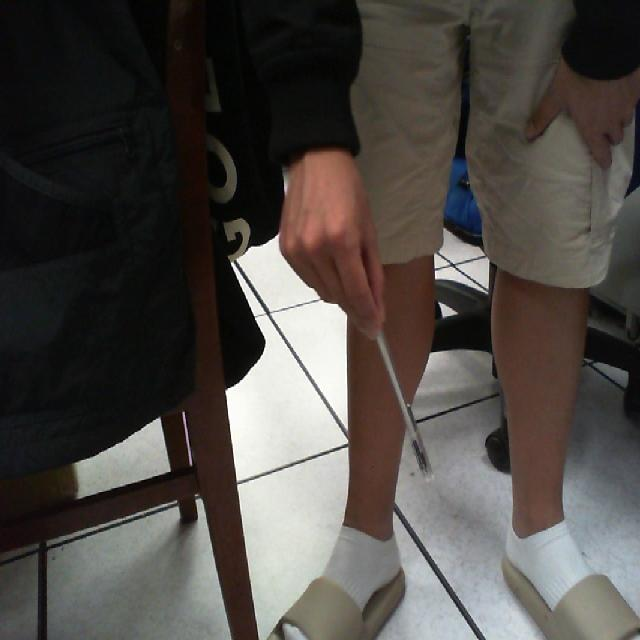Pen: (358, 285, 445, 495)
